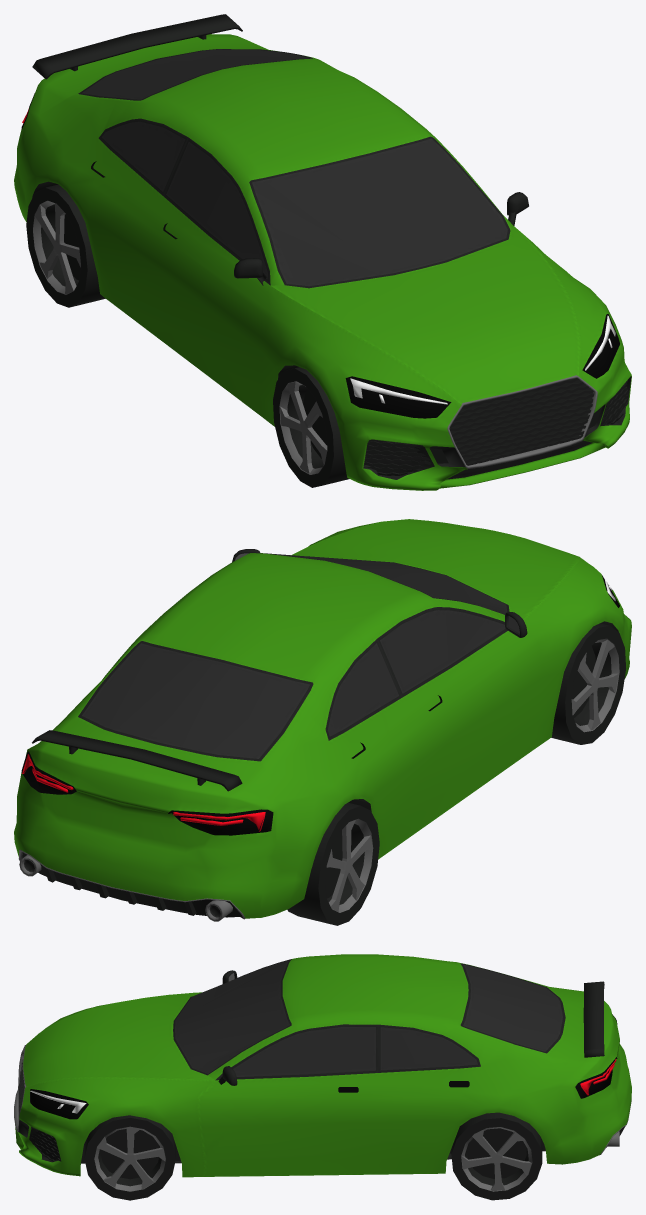
Rendered from audi_rs5_low_poly.glb.
3 renders of one model, top to bottom at view 1: azimuth 30°, elevation 25°; view 2: azimuth 150°, elevation 25°; view 3: azimuth 270°, elevation 25°, orthographic. The views are drawn at different scales.
Parts seen in each view (by area): view 1: object.005_Material_0, Cylinder.002, Cylinder.003, object.005_Material.001_0; view 2: object.005_Material_0, Cylinder.002, Cylinder.003, object.005_Material.001_0; view 3: object.005_Material_0, Cylinder.001, Cylinder, object.005_Material.001_0.
Boxes of the visible parts, <box> form: object.005_Material_0: <box>14,14,631,490</box>; Cylinder.002: <box>26,184,105,307</box>; Cylinder.003: <box>273,367,349,487</box>; object.005_Material.001_0: <box>22,108,615,404</box>; object.005_Material_0: <box>14,519,631,921</box>; Cylinder.002: <box>287,802,379,925</box>; Cylinder.003: <box>551,623,625,744</box>; object.005_Material.001_0: <box>22,577,615,831</box>; object.005_Material_0: <box>14,954,631,1177</box>; Cylinder.001: <box>451,1112,542,1200</box>; Cylinder: <box>84,1115,175,1200</box>; object.005_Material.001_0: <box>30,1059,616,1113</box>.
Bounding box in the file's own units: 1.91 × 1.4 × 4.68.
2 materials, 2 textured.
